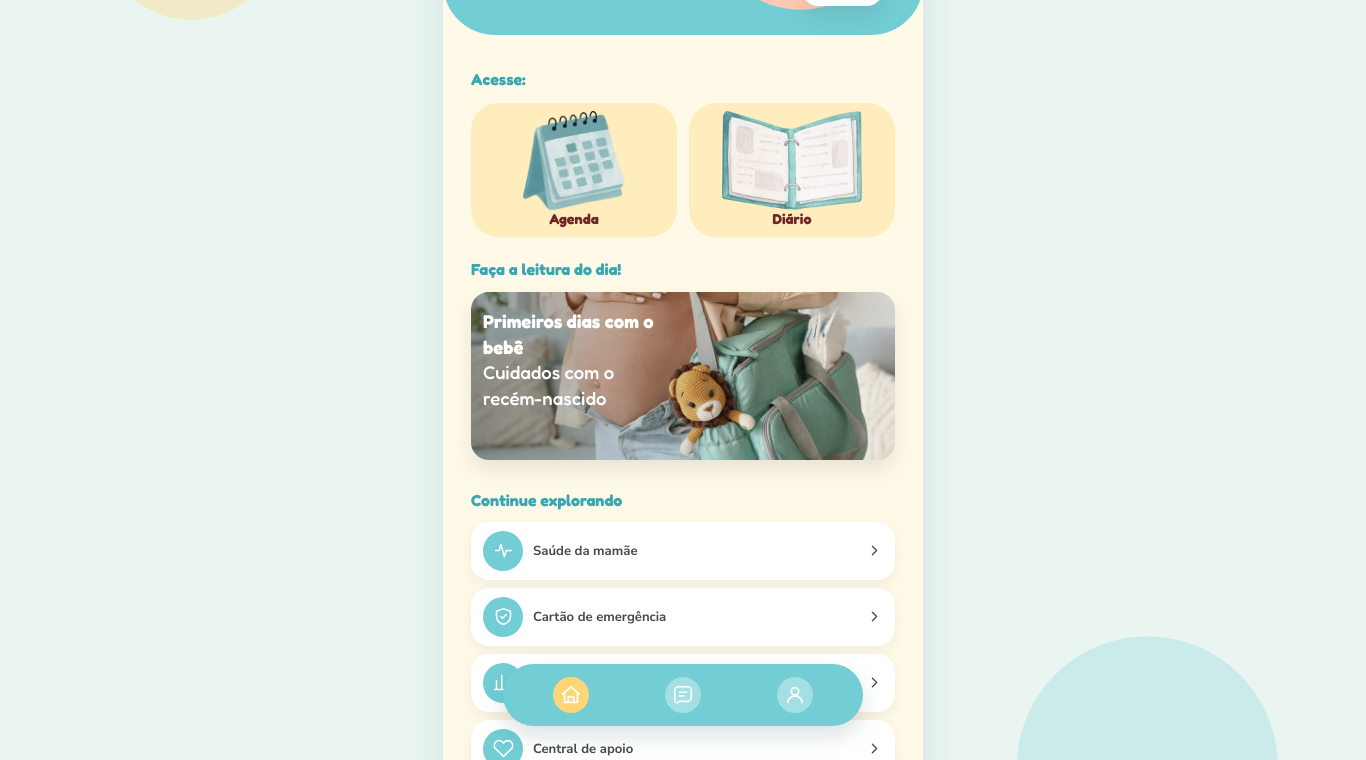
Test case: a leitura diária abre o artigo compartilhado da home
(page scrolled)
Expected: the heading "Faça a leitura do dia!" is shown, [471,259,621,279]
Click the link "Primeiros dias com o bebê Cuidados com o recém-nascido": (683, 376) [471,292,895,460]
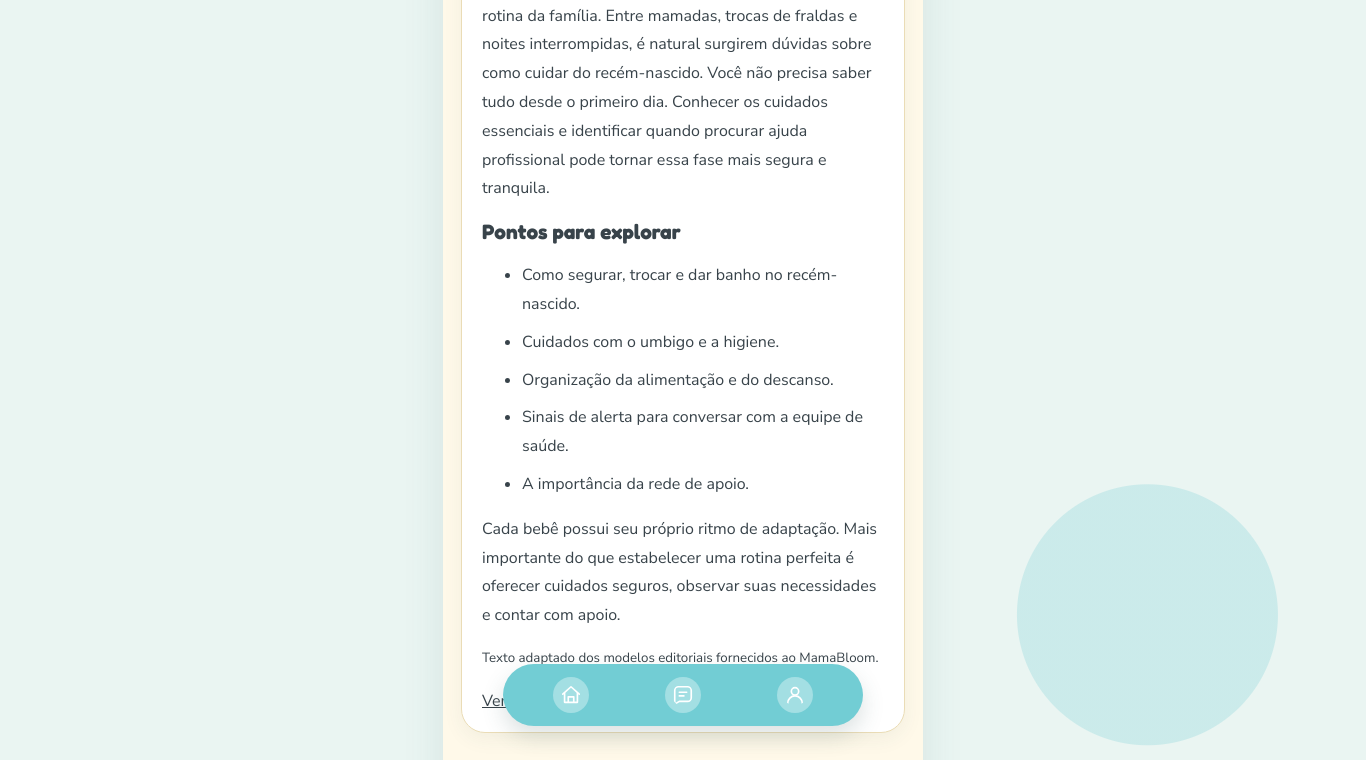
Now the text "Cada bebê possui seu próprio ritmo de adaptação. Mais importante do que estabelecer uma rotina perfeita é oferecer cuida" is shown, box [482,518,877,626]
